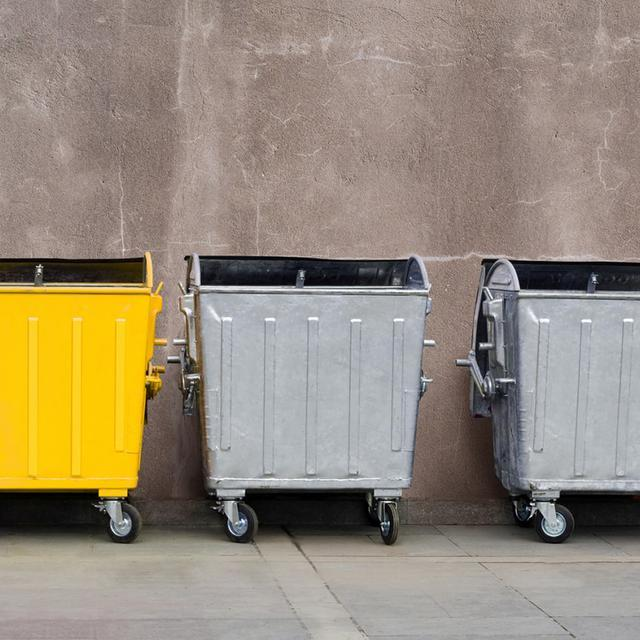Trash_Can_Empty: (182, 252, 433, 498), (470, 253, 640, 495), (0, 257, 167, 495)
